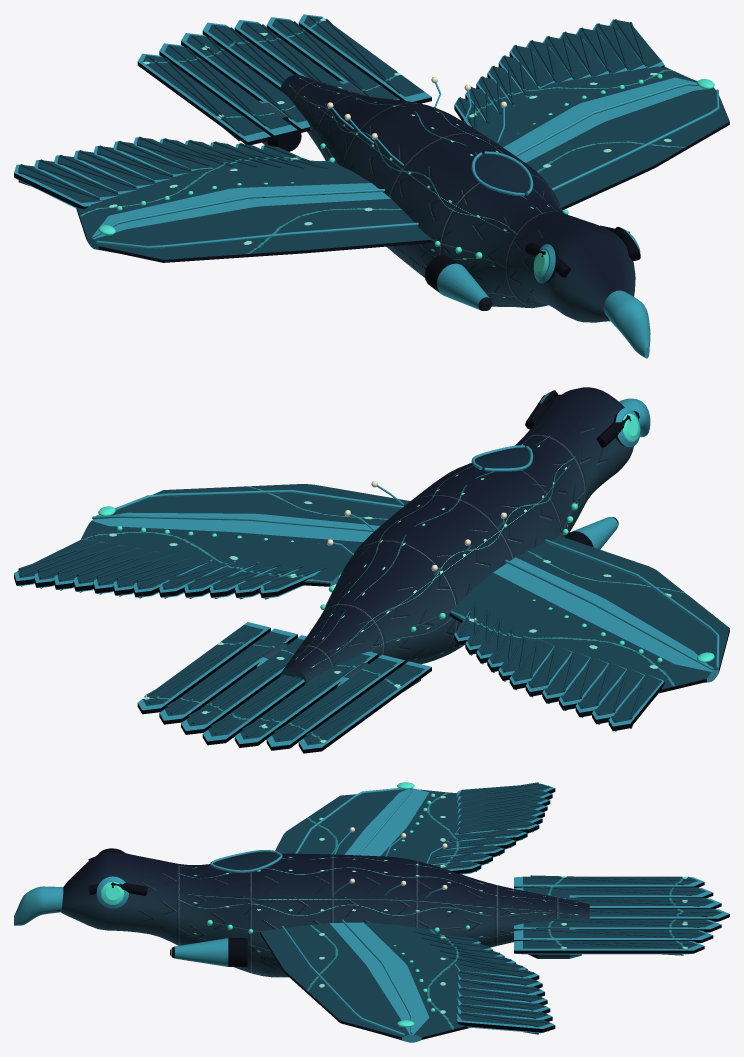
The picture shows the model from 3 angles, top to bottom: view 1: azimuth 30°, elevation 25°; view 2: azimuth 150°, elevation 25°; view 3: azimuth 270°, elevation 25°; orthographic projection. The views are drawn at different scales.
Visible parts, largest first — view 1: shrike_hull; view 2: shrike_hull; view 3: shrike_hull.
Part boxes in pixels (x1,y1,x2,y2): shrike_hull: (14,14,729,358); shrike_hull: (14,387,729,753); shrike_hull: (14,782,729,1042).
Bounding box in the file's own units: 13.49 × 3.02 × 16.5.
Materials: 1 (1 with a texture image).
